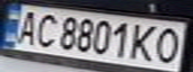0: (90, 18, 112, 56)
1: (109, 19, 133, 58)
8: (54, 14, 81, 52), (72, 16, 96, 54)
A: (9, 8, 42, 46)
C: (30, 11, 60, 48)
K: (127, 21, 163, 62)
O: (148, 25, 187, 65)
